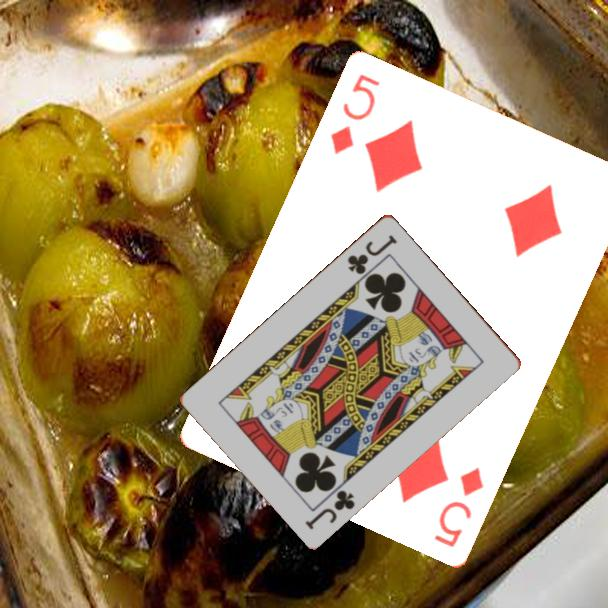c11: (301, 486, 358, 532), (344, 231, 400, 277)
d05: (327, 71, 383, 159), (431, 464, 487, 551)
